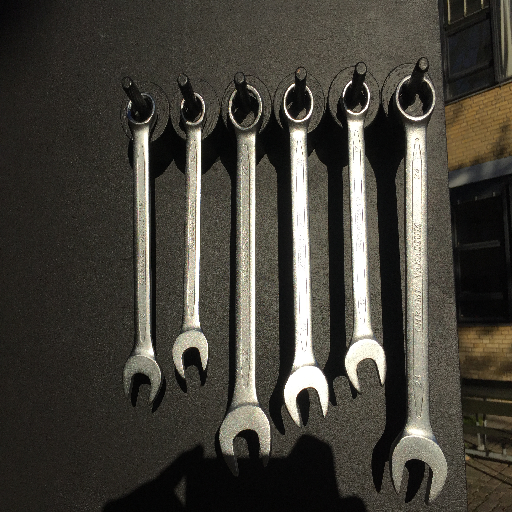bottom: (390, 432, 449, 505), (216, 403, 273, 477), (282, 366, 331, 428), (344, 336, 387, 394), (121, 349, 163, 405), (172, 327, 210, 377)
top: (391, 74, 438, 127), (227, 83, 265, 134), (281, 82, 316, 128), (339, 77, 373, 120), (123, 93, 161, 130), (178, 93, 209, 130)
